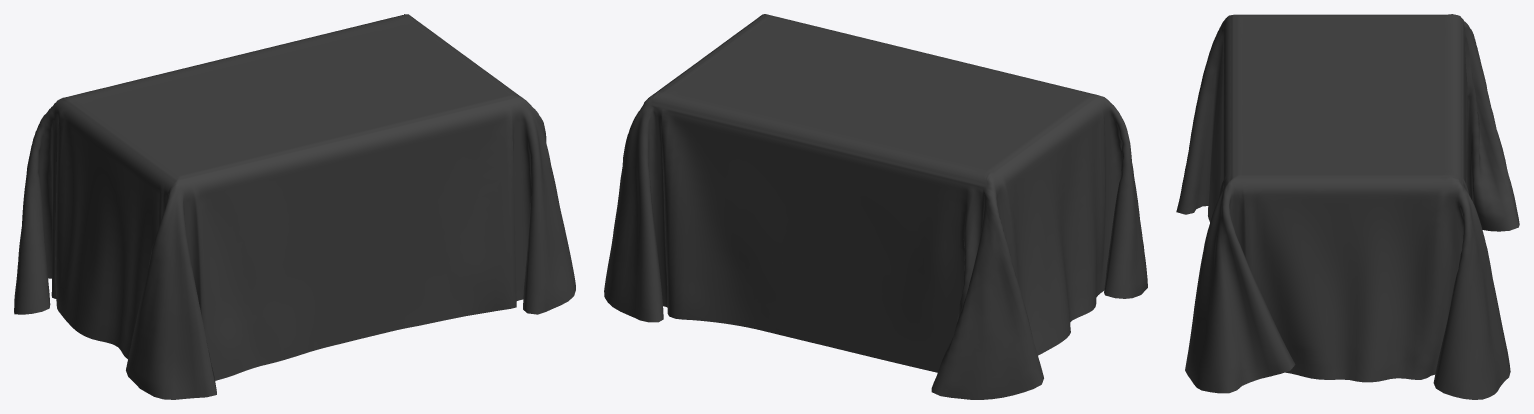
Rendered from throw-4ft-4.glb.
3 renders of one model, left to right at view 1: azimuth 30°, elevation 25°; view 2: azimuth 150°, elevation 25°; view 3: azimuth 270°, elevation 25°, orthographic. The views are drawn at different scales.
Parts seen in each view (by area): view 1: geometry_0; view 2: geometry_0; view 3: geometry_0.
Boxes of the visible parts, box(x1,y1,x2,y2) form: geometry_0: box(14, 14, 575, 399); geometry_0: box(604, 14, 1147, 399); geometry_0: box(1176, 14, 1519, 399).
Size of the model in its own units: 1.62 by 0.7356 by 1.1.
1 material, 1 textured.
